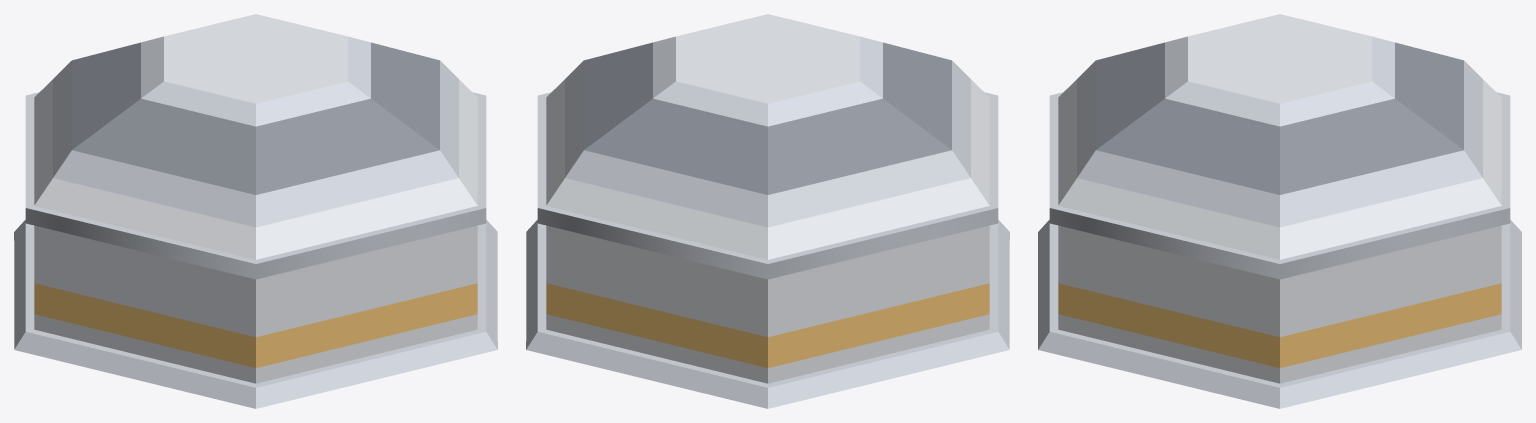
Rendered from hangar_roundA.glb.
The picture shows the model from 3 angles, left to right: view 1: azimuth 30°, elevation 25°; view 2: azimuth 150°, elevation 25°; view 3: azimuth 270°, elevation 25°; orthographic projection.
Parts seen in each view (by area): view 1: hangar_roundA; view 2: hangar_roundA; view 3: hangar_roundA.
Boxes of the visible parts, x1,y1,x2,y2 form: hangar_roundA: (14,14,497,408); hangar_roundA: (526,14,1009,408); hangar_roundA: (1038,14,1521,408).
Size of the model in its own units: 3.27 by 1.5 by 2.83.
